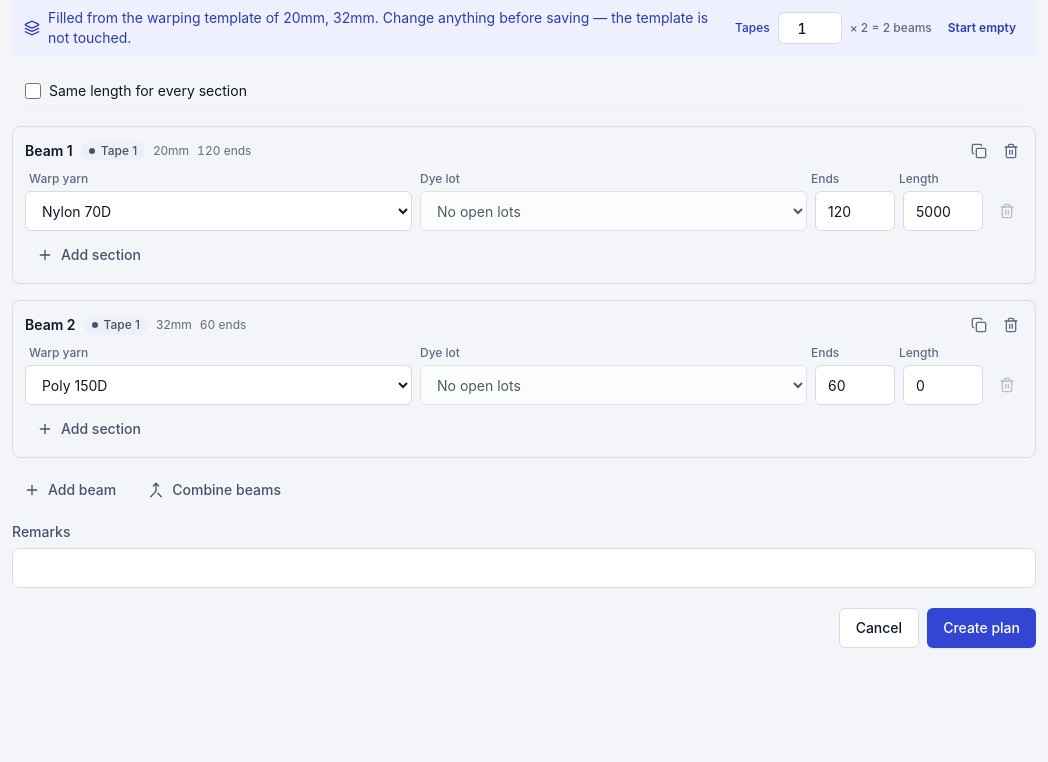
Test case: repeating the template per tape › shows the tape on each beam
Expected: the text "Beam 2" is shown, [25,315,76,335]
Replace the text in the number field named "number of tapes" with "2" at (810, 28), box [778,12,842,44]
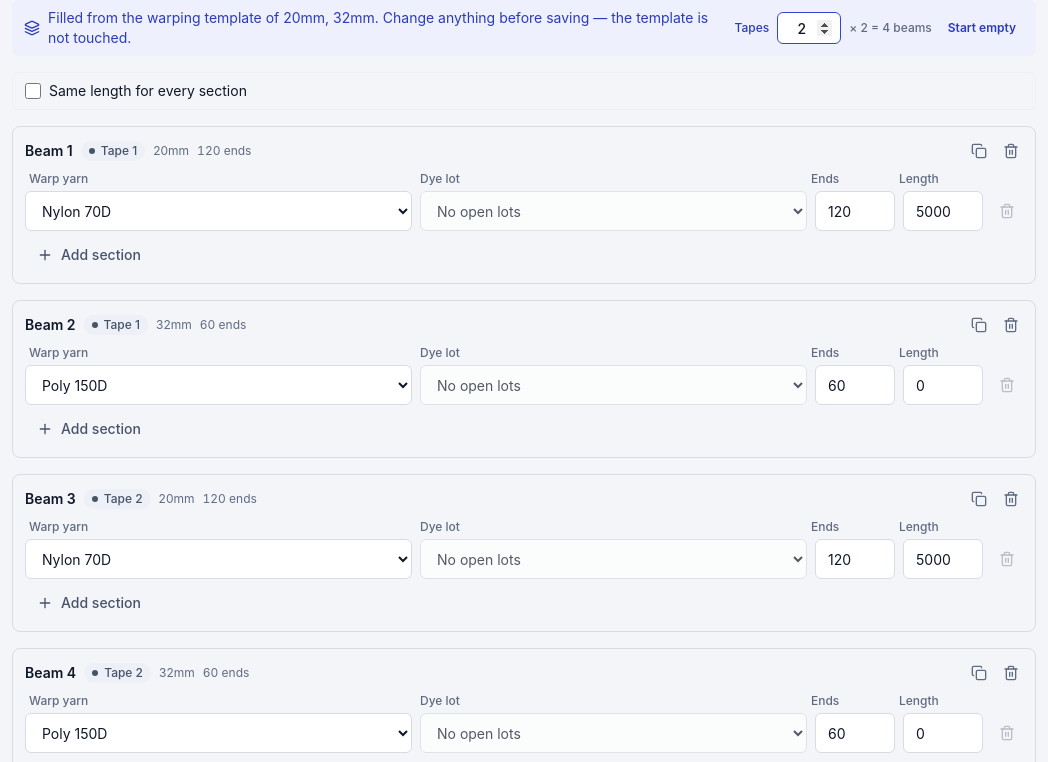
Expected: the text "Tape 2" is shown 2 times, [104,491,143,507]; [104,665,143,681]
